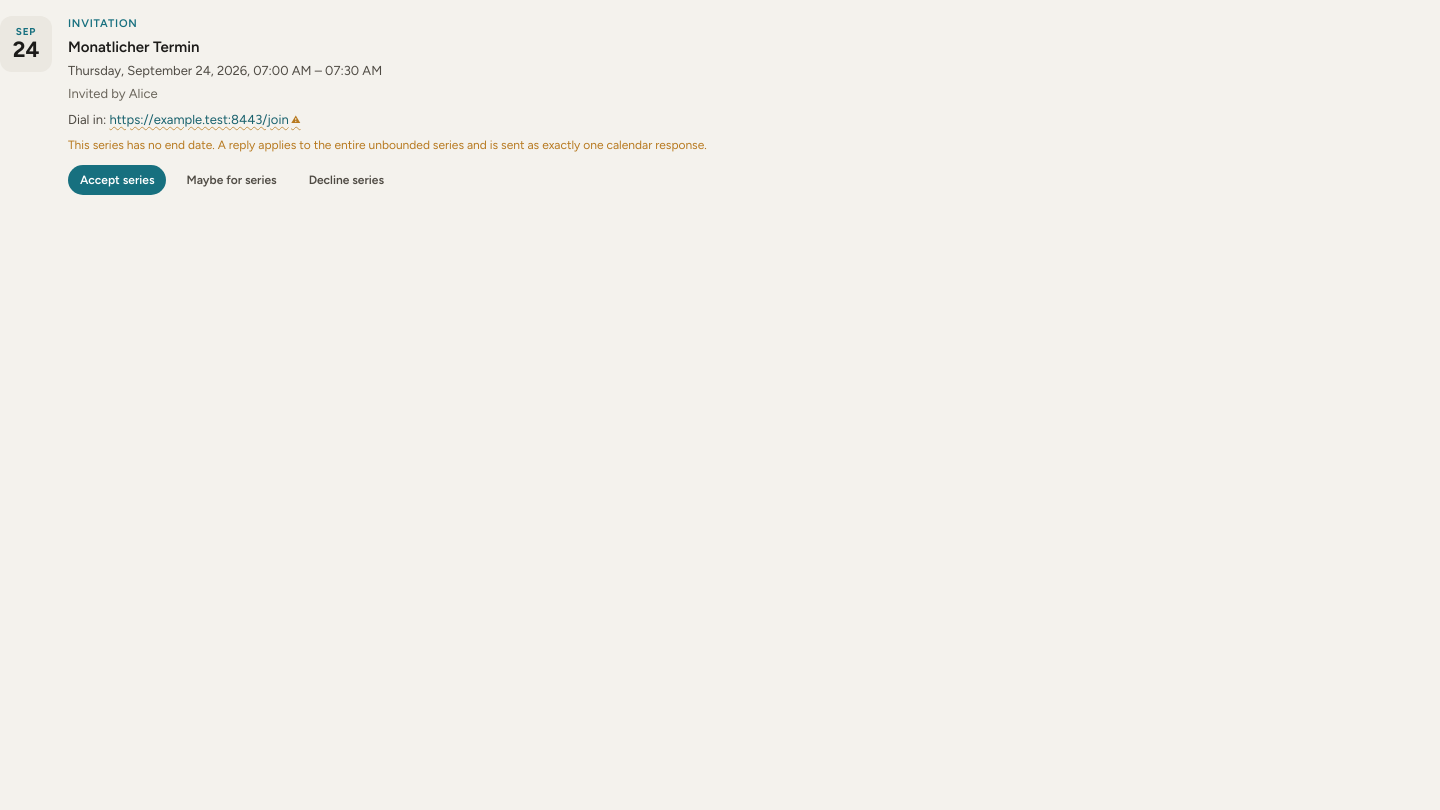
Test: invitation links › confirms risky note links in the app dialog, not in window.confirm
What coordinates should you click on to do the following:
click the link "https://example.test:8443/join⚠"
I would click on:
 (205, 120)
Its box is [109, 112, 300, 127].
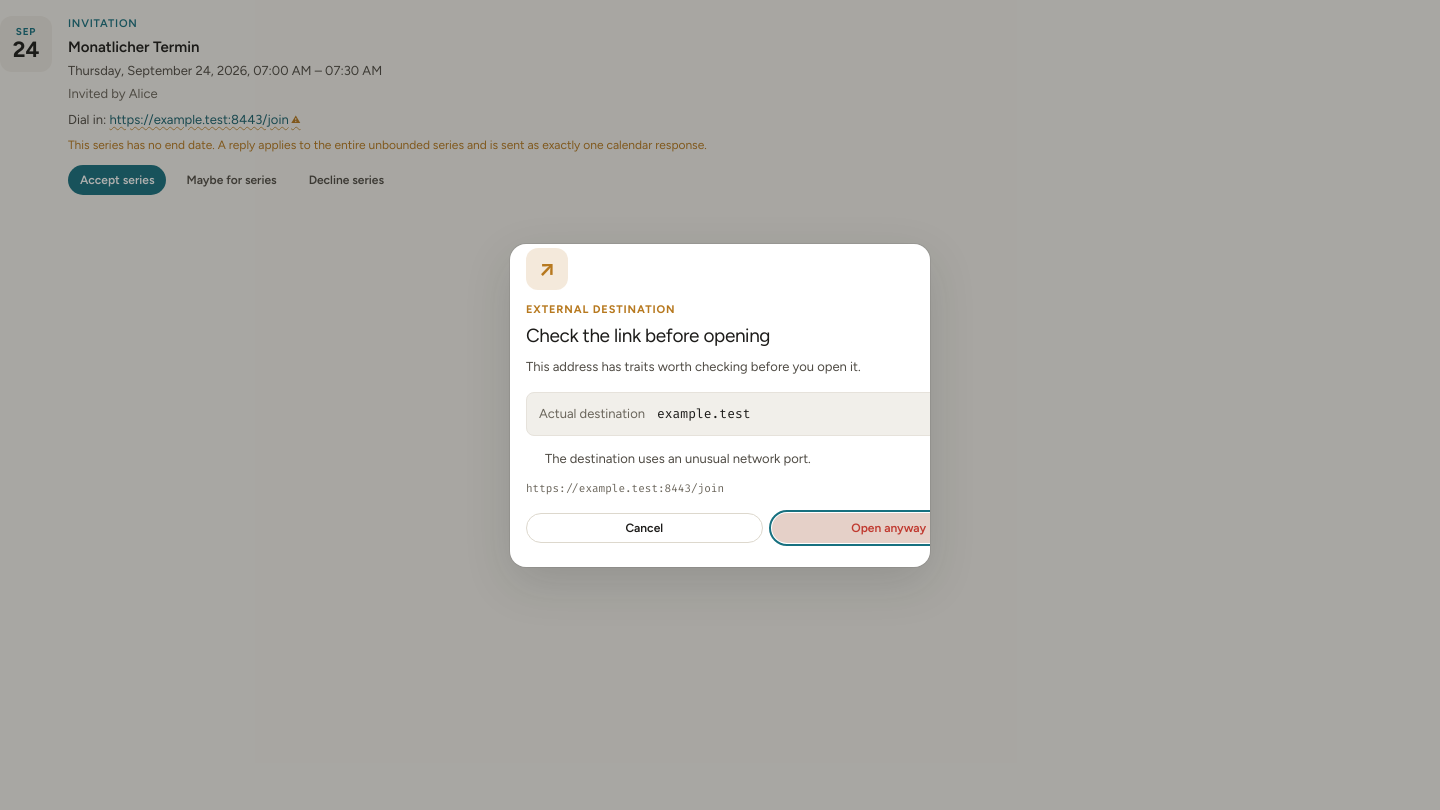
Now the text "unusual network port" is shown, box [545, 450, 811, 466]
